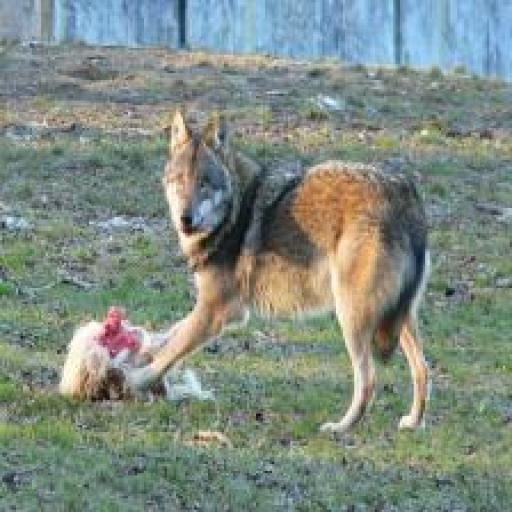wolf: (128, 110, 461, 476)
